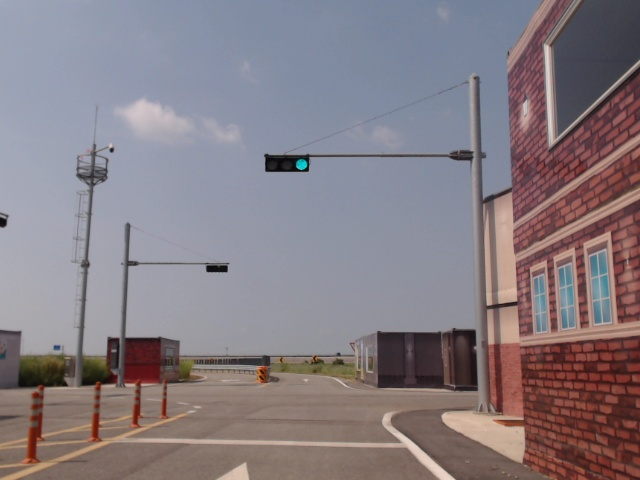green_3: (265, 156, 310, 173)
